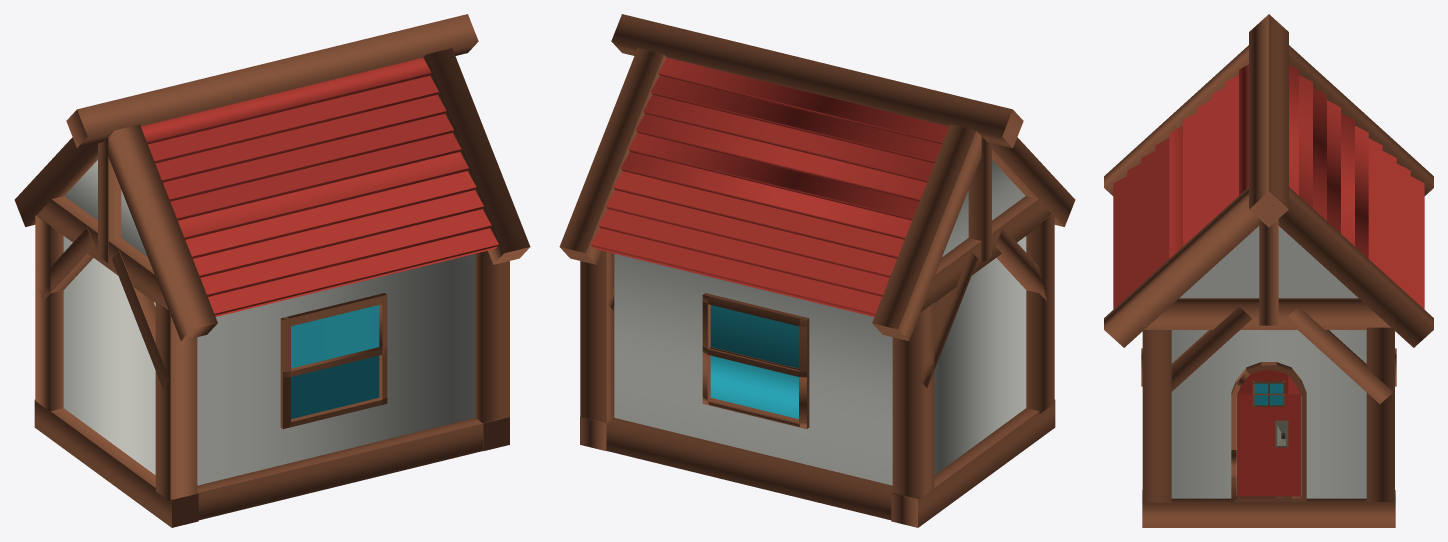
File: Low Poly House.fbx
3 views of the same model, side by side, from view 1: azimuth 30°, elevation 25°; view 2: azimuth 150°, elevation 25°; view 3: azimuth 270°, elevation 25° (orthographic). The views are drawn at different scales.
Parts seen in each view (by area): view 1: House; view 2: House; view 3: House.
Part boxes in pixels (bbox=[...]): House: bbox=[14, 14, 530, 527]; House: bbox=[559, 14, 1075, 527]; House: bbox=[1104, 14, 1433, 527].
Bounding box in the file's own units: 751 × 688 × 589.
